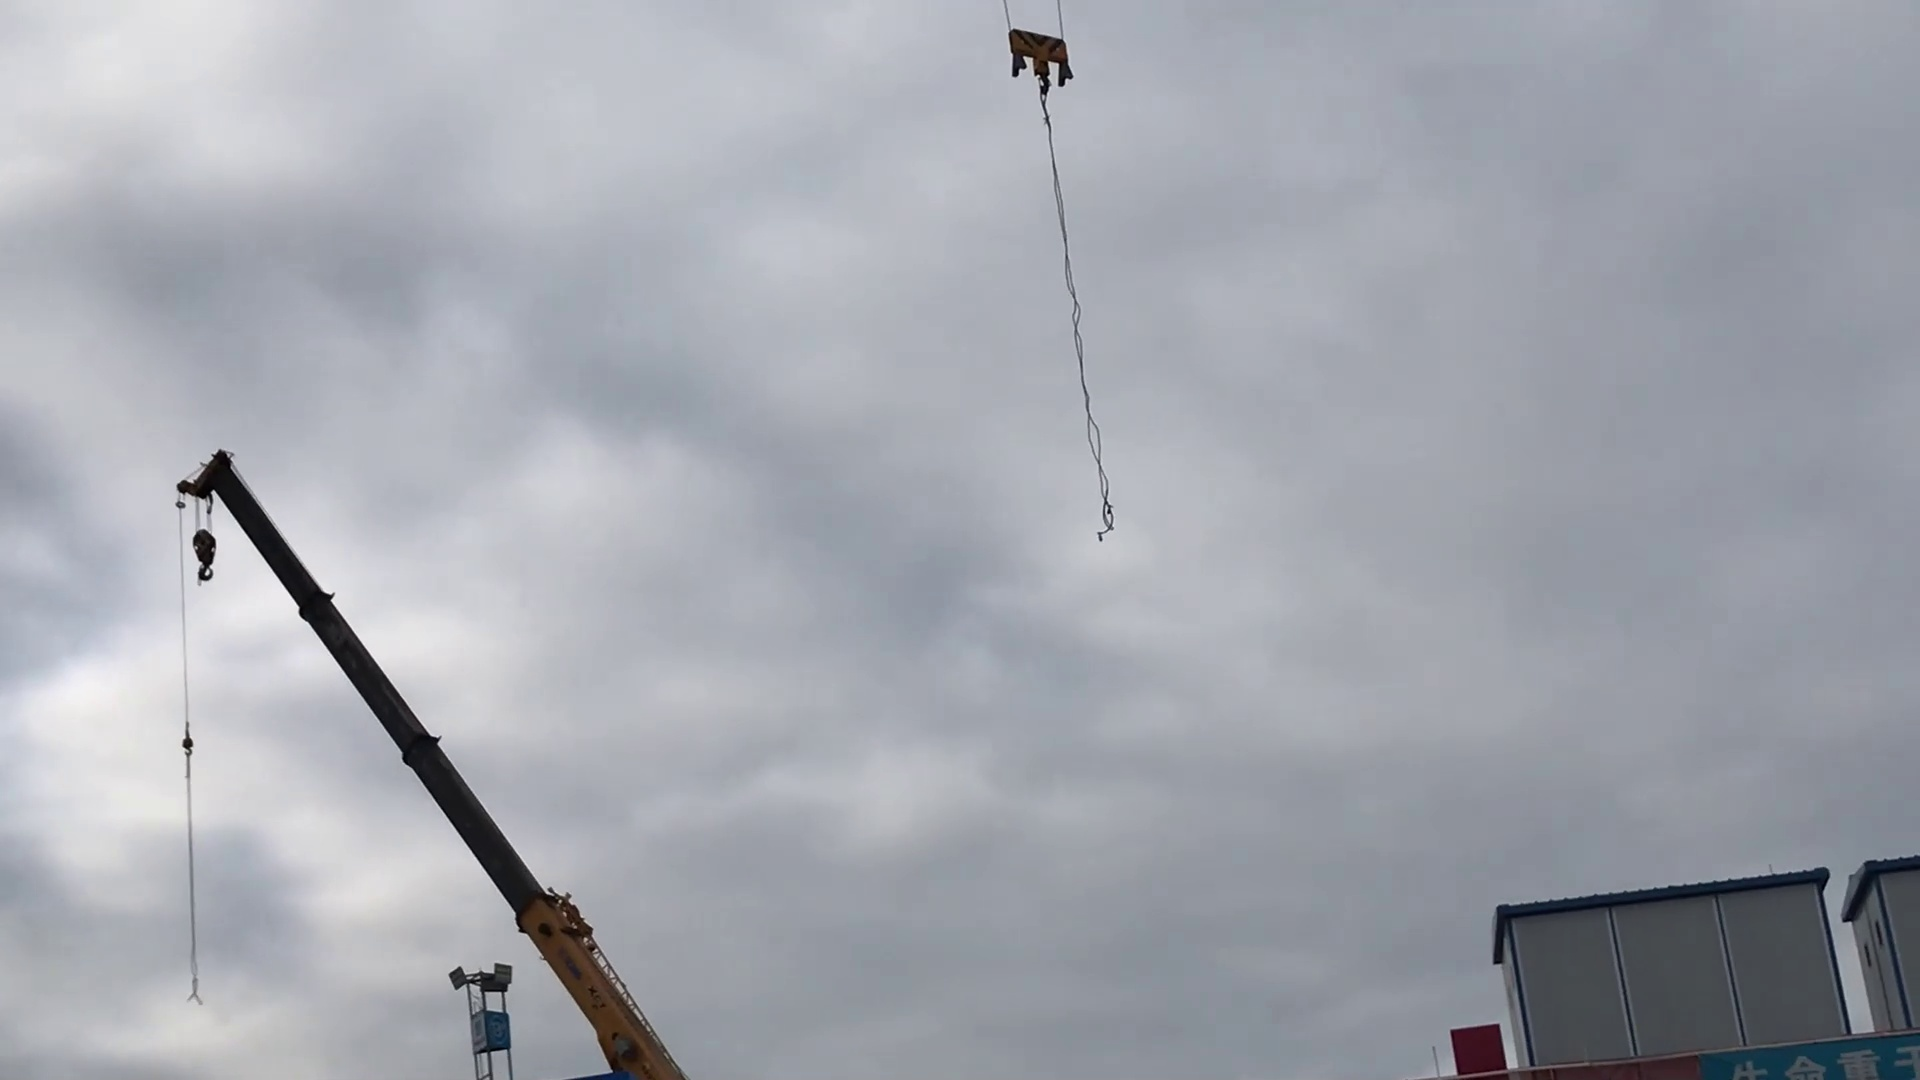hook: (1000, 25, 1083, 100)
slogan: (1701, 1026, 1920, 1077)
